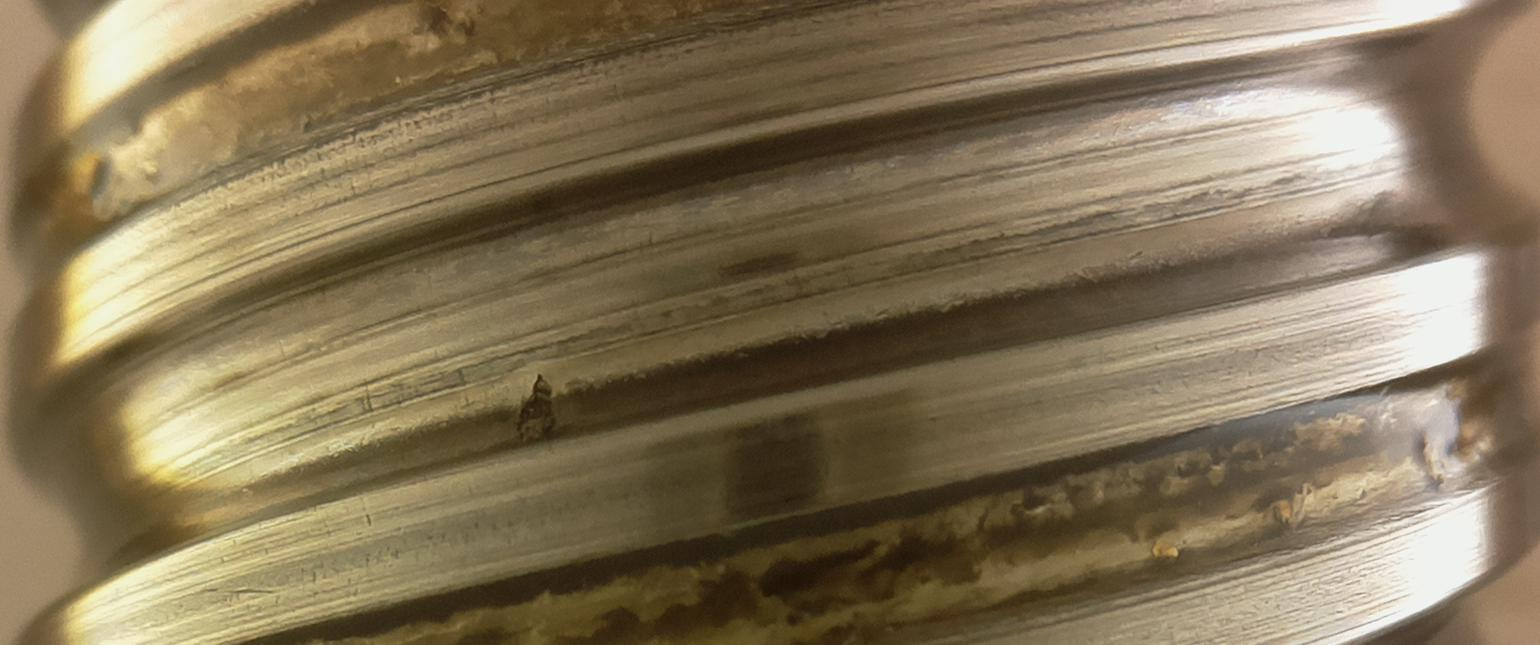pitting: (517, 375, 555, 443)
